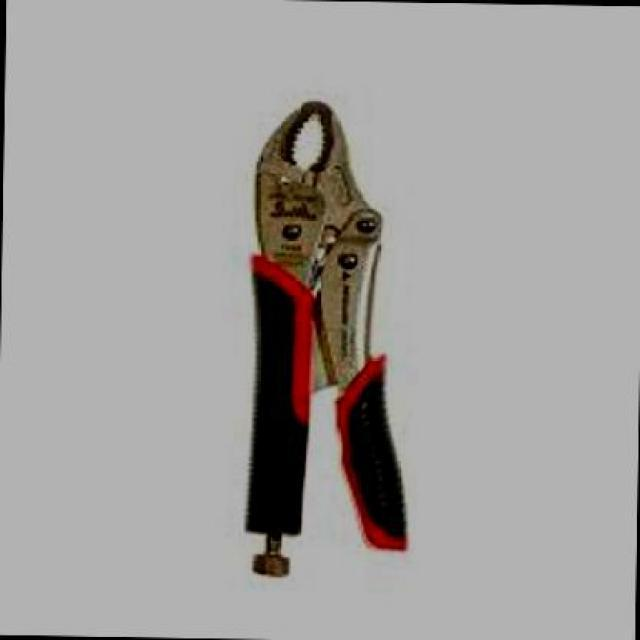pliers: (203, 85, 442, 590)
